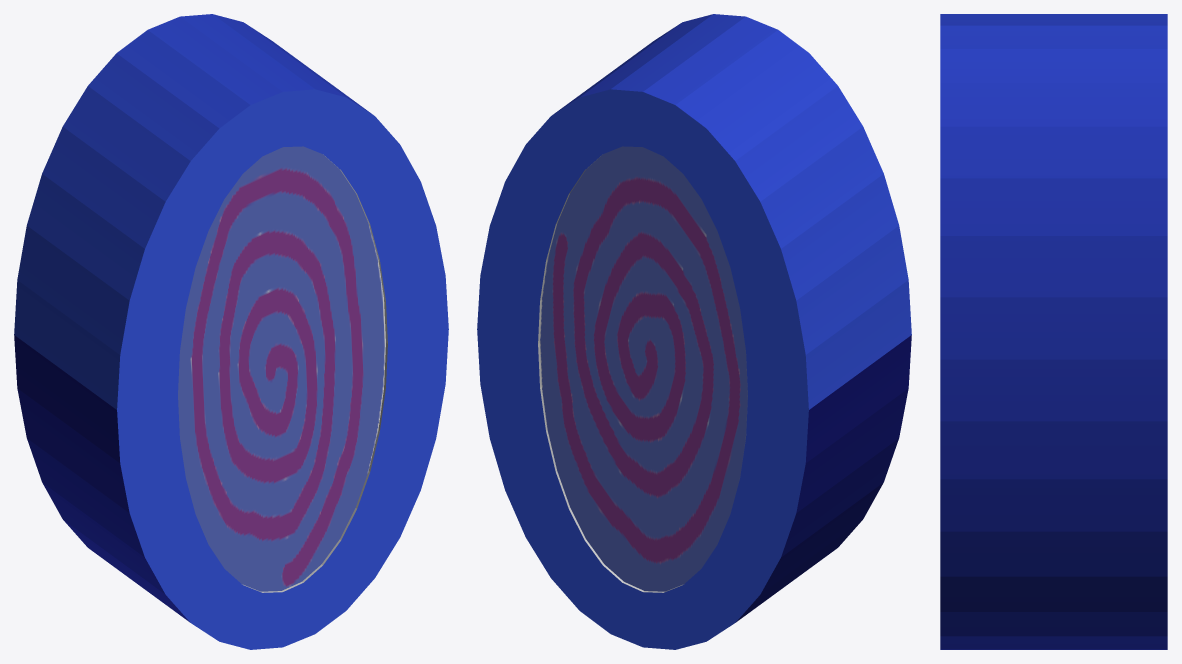
The model's file is GoalBase.obj.
3 renders of one model, left to right at view 1: azimuth 30°, elevation 25°; view 2: azimuth 150°, elevation 25°; view 3: azimuth 270°, elevation 25°, orthographic. The views are drawn at different scales.
Visible parts, largest first — view 1: 円柱, 円柱.001; view 2: 円柱, 円柱.001; view 3: 円柱.
Boxes of the visible parts, x1,y1,x2,y2 form: 円柱: [14, 14, 448, 649]; 円柱.001: [178, 146, 385, 591]; 円柱: [477, 14, 911, 649]; 円柱.001: [540, 146, 747, 591]; 円柱: [940, 14, 1167, 649].
Size of the model in its own units: 1.03 by 1.65 by 0.5546.
